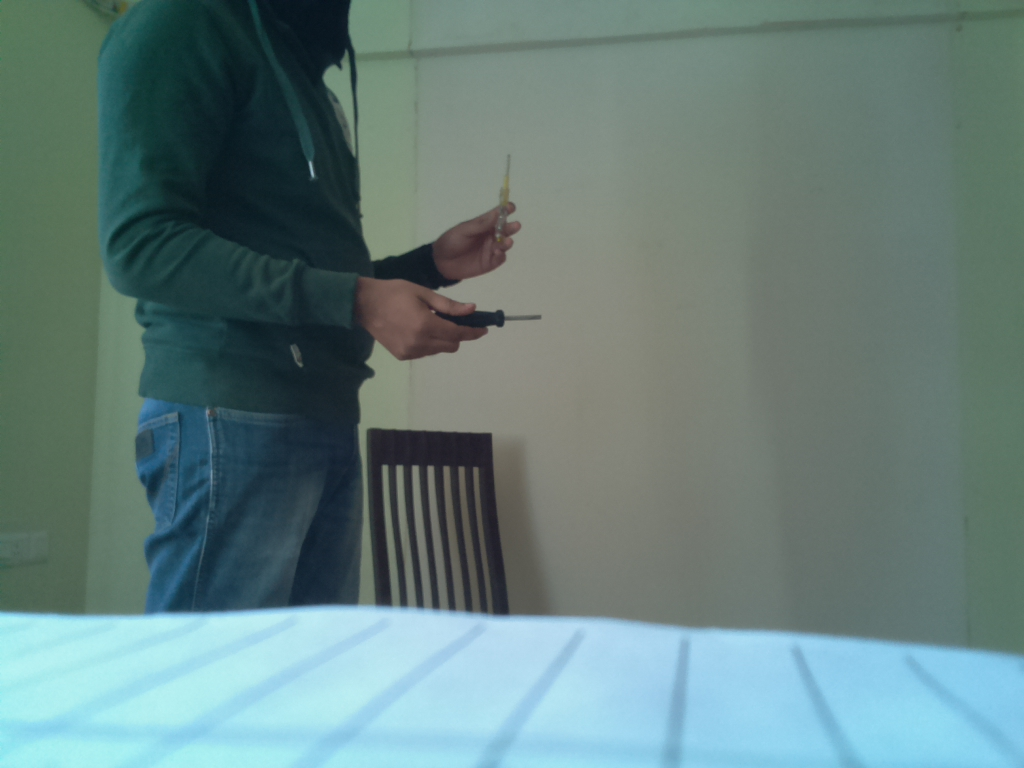none3: (435, 304, 554, 329), (494, 146, 518, 244)
